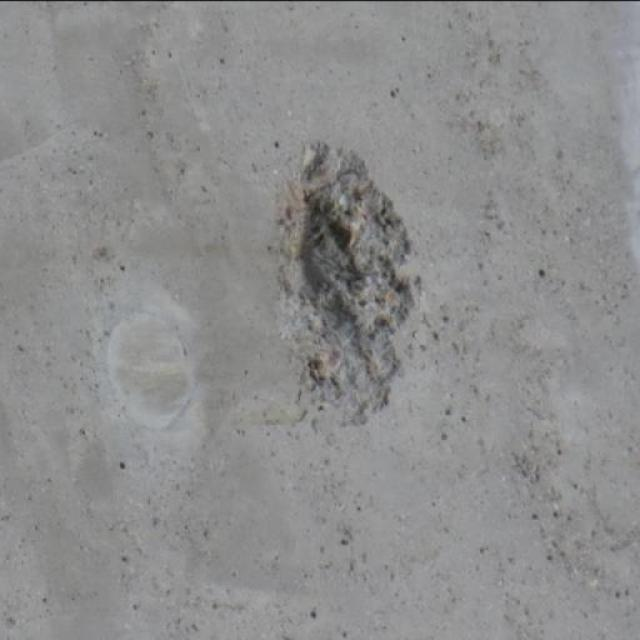D10: (292, 141, 418, 420)
